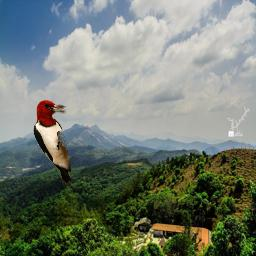Woodpecker: (33, 100, 71, 184)
